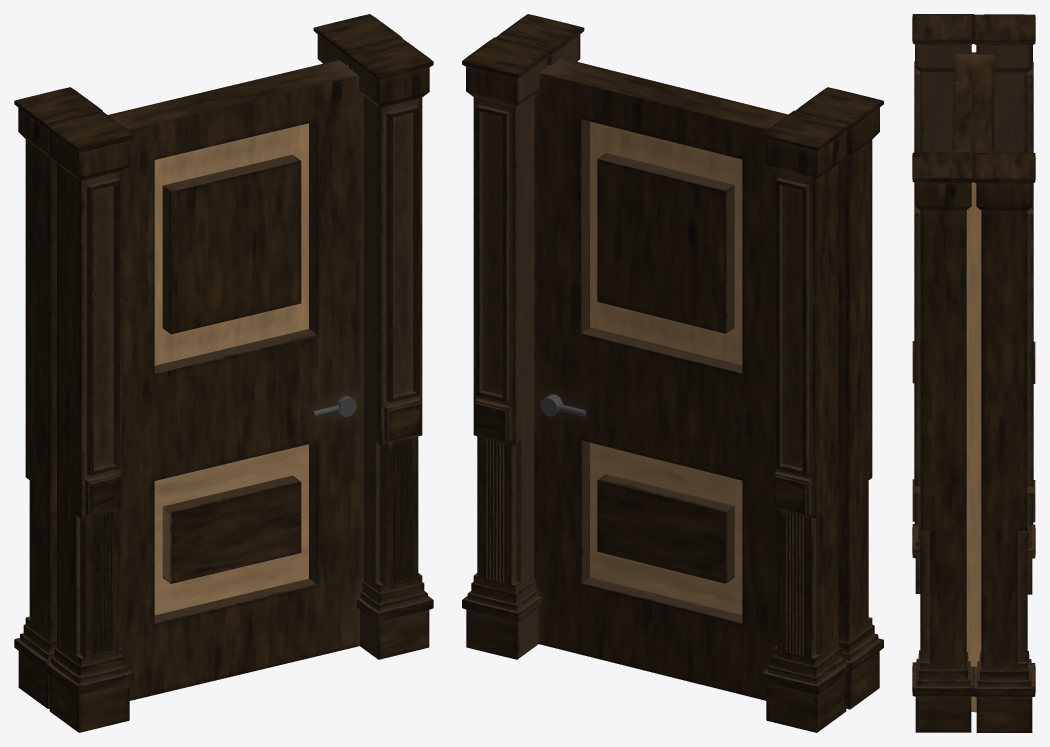
Rendered from DoorOK2.fbx.
3 renders of one model, left to right at view 1: azimuth 30°, elevation 25°; view 2: azimuth 150°, elevation 25°; view 3: azimuth 270°, elevation 25°, orthographic. The views are drawn at different scales.
Parts seen in each view (by area): view 1: Drzwi.001, Filary.002, Filary.001; view 2: Drzwi.001, Filary.001, Filary.002; view 3: Filary.001, Filary.002, Drzwi.001.
Part boxes in pixels (<box>): Drzwi.001: <box>108,60,363,700</box>; Filary.002: <box>45,38,433,732</box>; Filary.001: <box>14,14,402,708</box>; Drzwi.001: <box>534,58,787,700</box>; Filary.001: <box>462,37,850,732</box>; Filary.002: <box>495,14,883,709</box>; Filary.001: <box>973,14,1035,732</box>; Filary.002: <box>912,14,974,732</box>; Drzwi.001: <box>951,52,994,712</box>.
Bounding box in the file's own units: 0.5398 × 1.71 × 2.68.
Materials: 3 (3 with a texture image).
